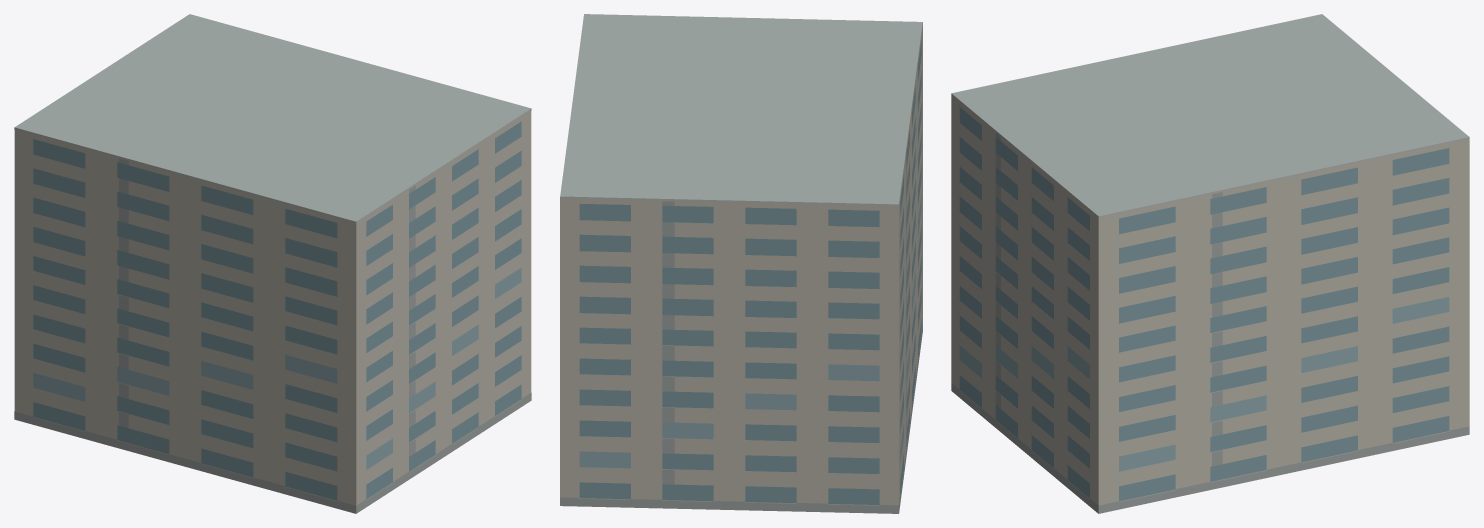
Rendered from residential-a80f4bbb-6e0a-4fb0-a562-776fd1c98c3b.glb.
3 renders of one model, left to right at view 1: azimuth 30°, elevation 25°; view 2: azimuth 150°, elevation 25°; view 3: azimuth 270°, elevation 25°, orthographic. The views are drawn at different scales.
Parts seen in each view (by area): view 1: residential-a80f4bbb-6e0a-4fb0-a562-776fd1c98c3b.tmp; view 2: residential-a80f4bbb-6e0a-4fb0-a562-776fd1c98c3b.tmp; view 3: residential-a80f4bbb-6e0a-4fb0-a562-776fd1c98c3b.tmp.
Boxes of the visible parts, x1,y1,x2,y2 form: residential-a80f4bbb-6e0a-4fb0-a562-776fd1c98c3b.tmp: (14, 14, 531, 513); residential-a80f4bbb-6e0a-4fb0-a562-776fd1c98c3b.tmp: (560, 14, 922, 513); residential-a80f4bbb-6e0a-4fb0-a562-776fd1c98c3b.tmp: (951, 14, 1469, 513).
Size of the model in its own units: 48.12 by 33 by 52.09.
